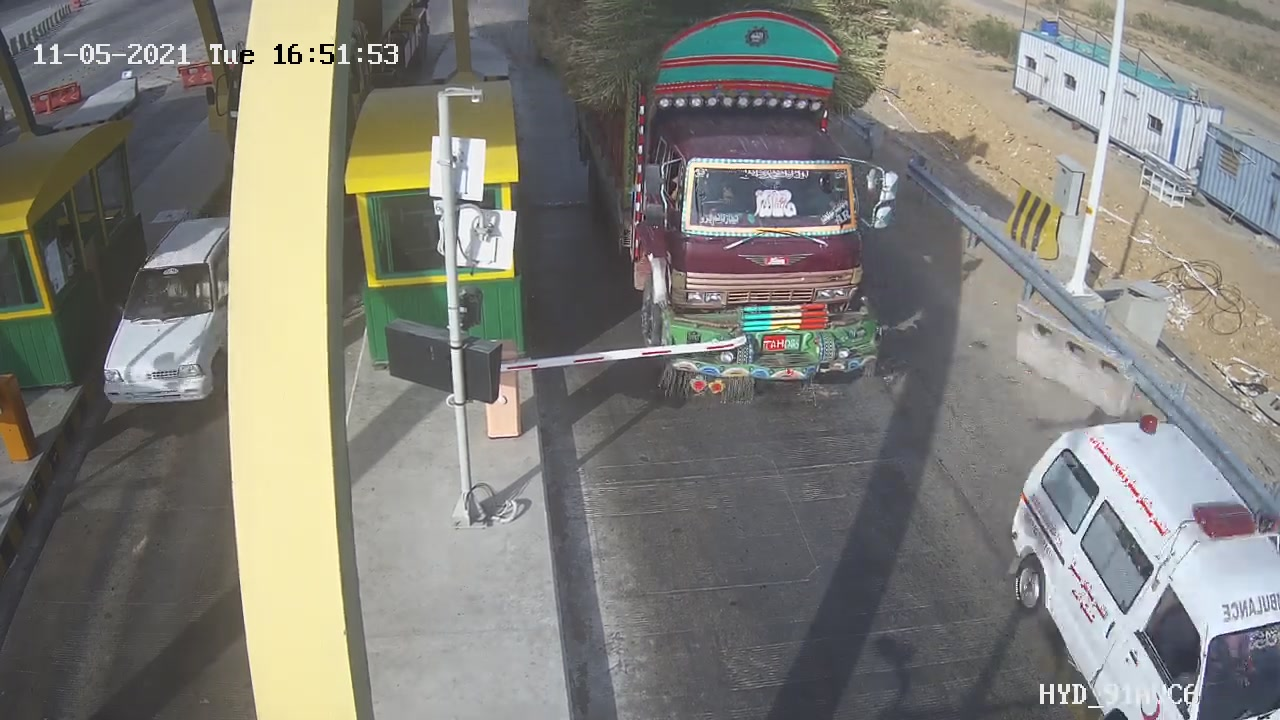F5: (560, 1, 942, 424)
